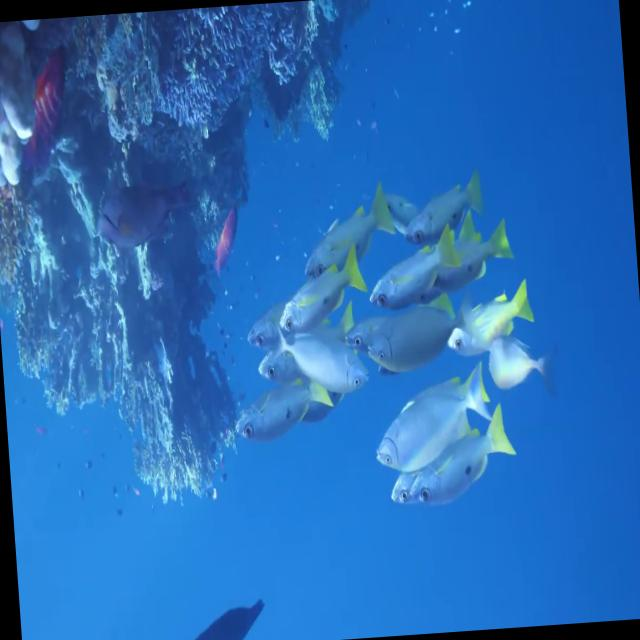fish: (369, 361, 495, 476), (402, 408, 516, 504), (296, 186, 398, 284), (364, 232, 465, 316), (270, 316, 374, 396), (274, 251, 370, 335), (232, 371, 338, 446), (443, 276, 538, 358), (400, 171, 486, 249), (430, 220, 518, 294), (487, 334, 557, 402)
